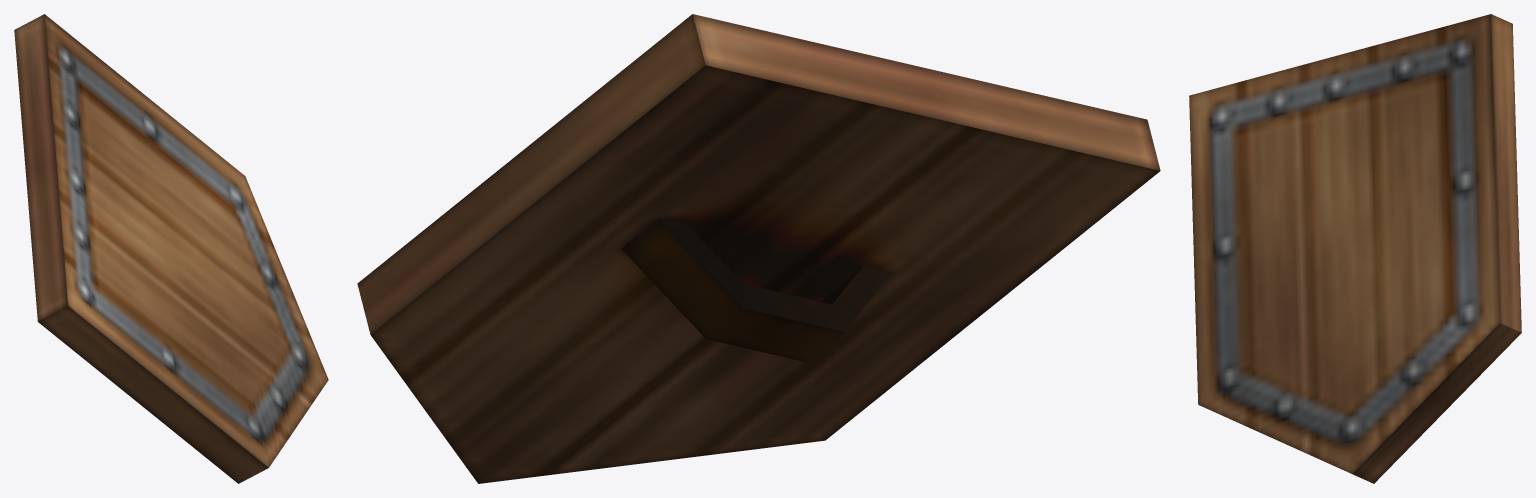
Rendered from shield001.fbx.
3 renders of one model, left to right at view 1: azimuth 30°, elevation 25°; view 2: azimuth 150°, elevation 25°; view 3: azimuth 270°, elevation 25°, orthographic. The views are drawn at different scales.
Parts seen in each view (by area): view 1: shield001; view 2: shield001; view 3: shield001.
Boxes of the visible parts, bbox=[...] form: shield001: bbox=[14, 14, 328, 483]; shield001: bbox=[357, 14, 1160, 483]; shield001: bbox=[1189, 14, 1521, 483].
Size of the model in its own units: 0.3312 by 0.3359 by 0.2684.
